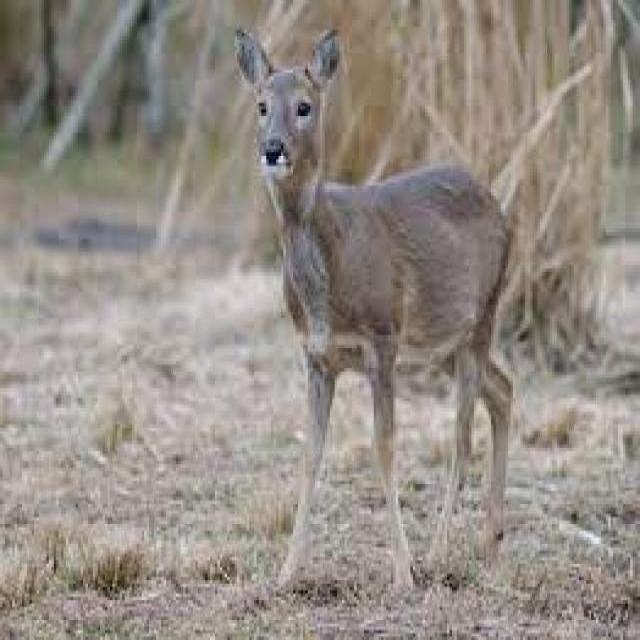deer: (225, 18, 540, 593)
